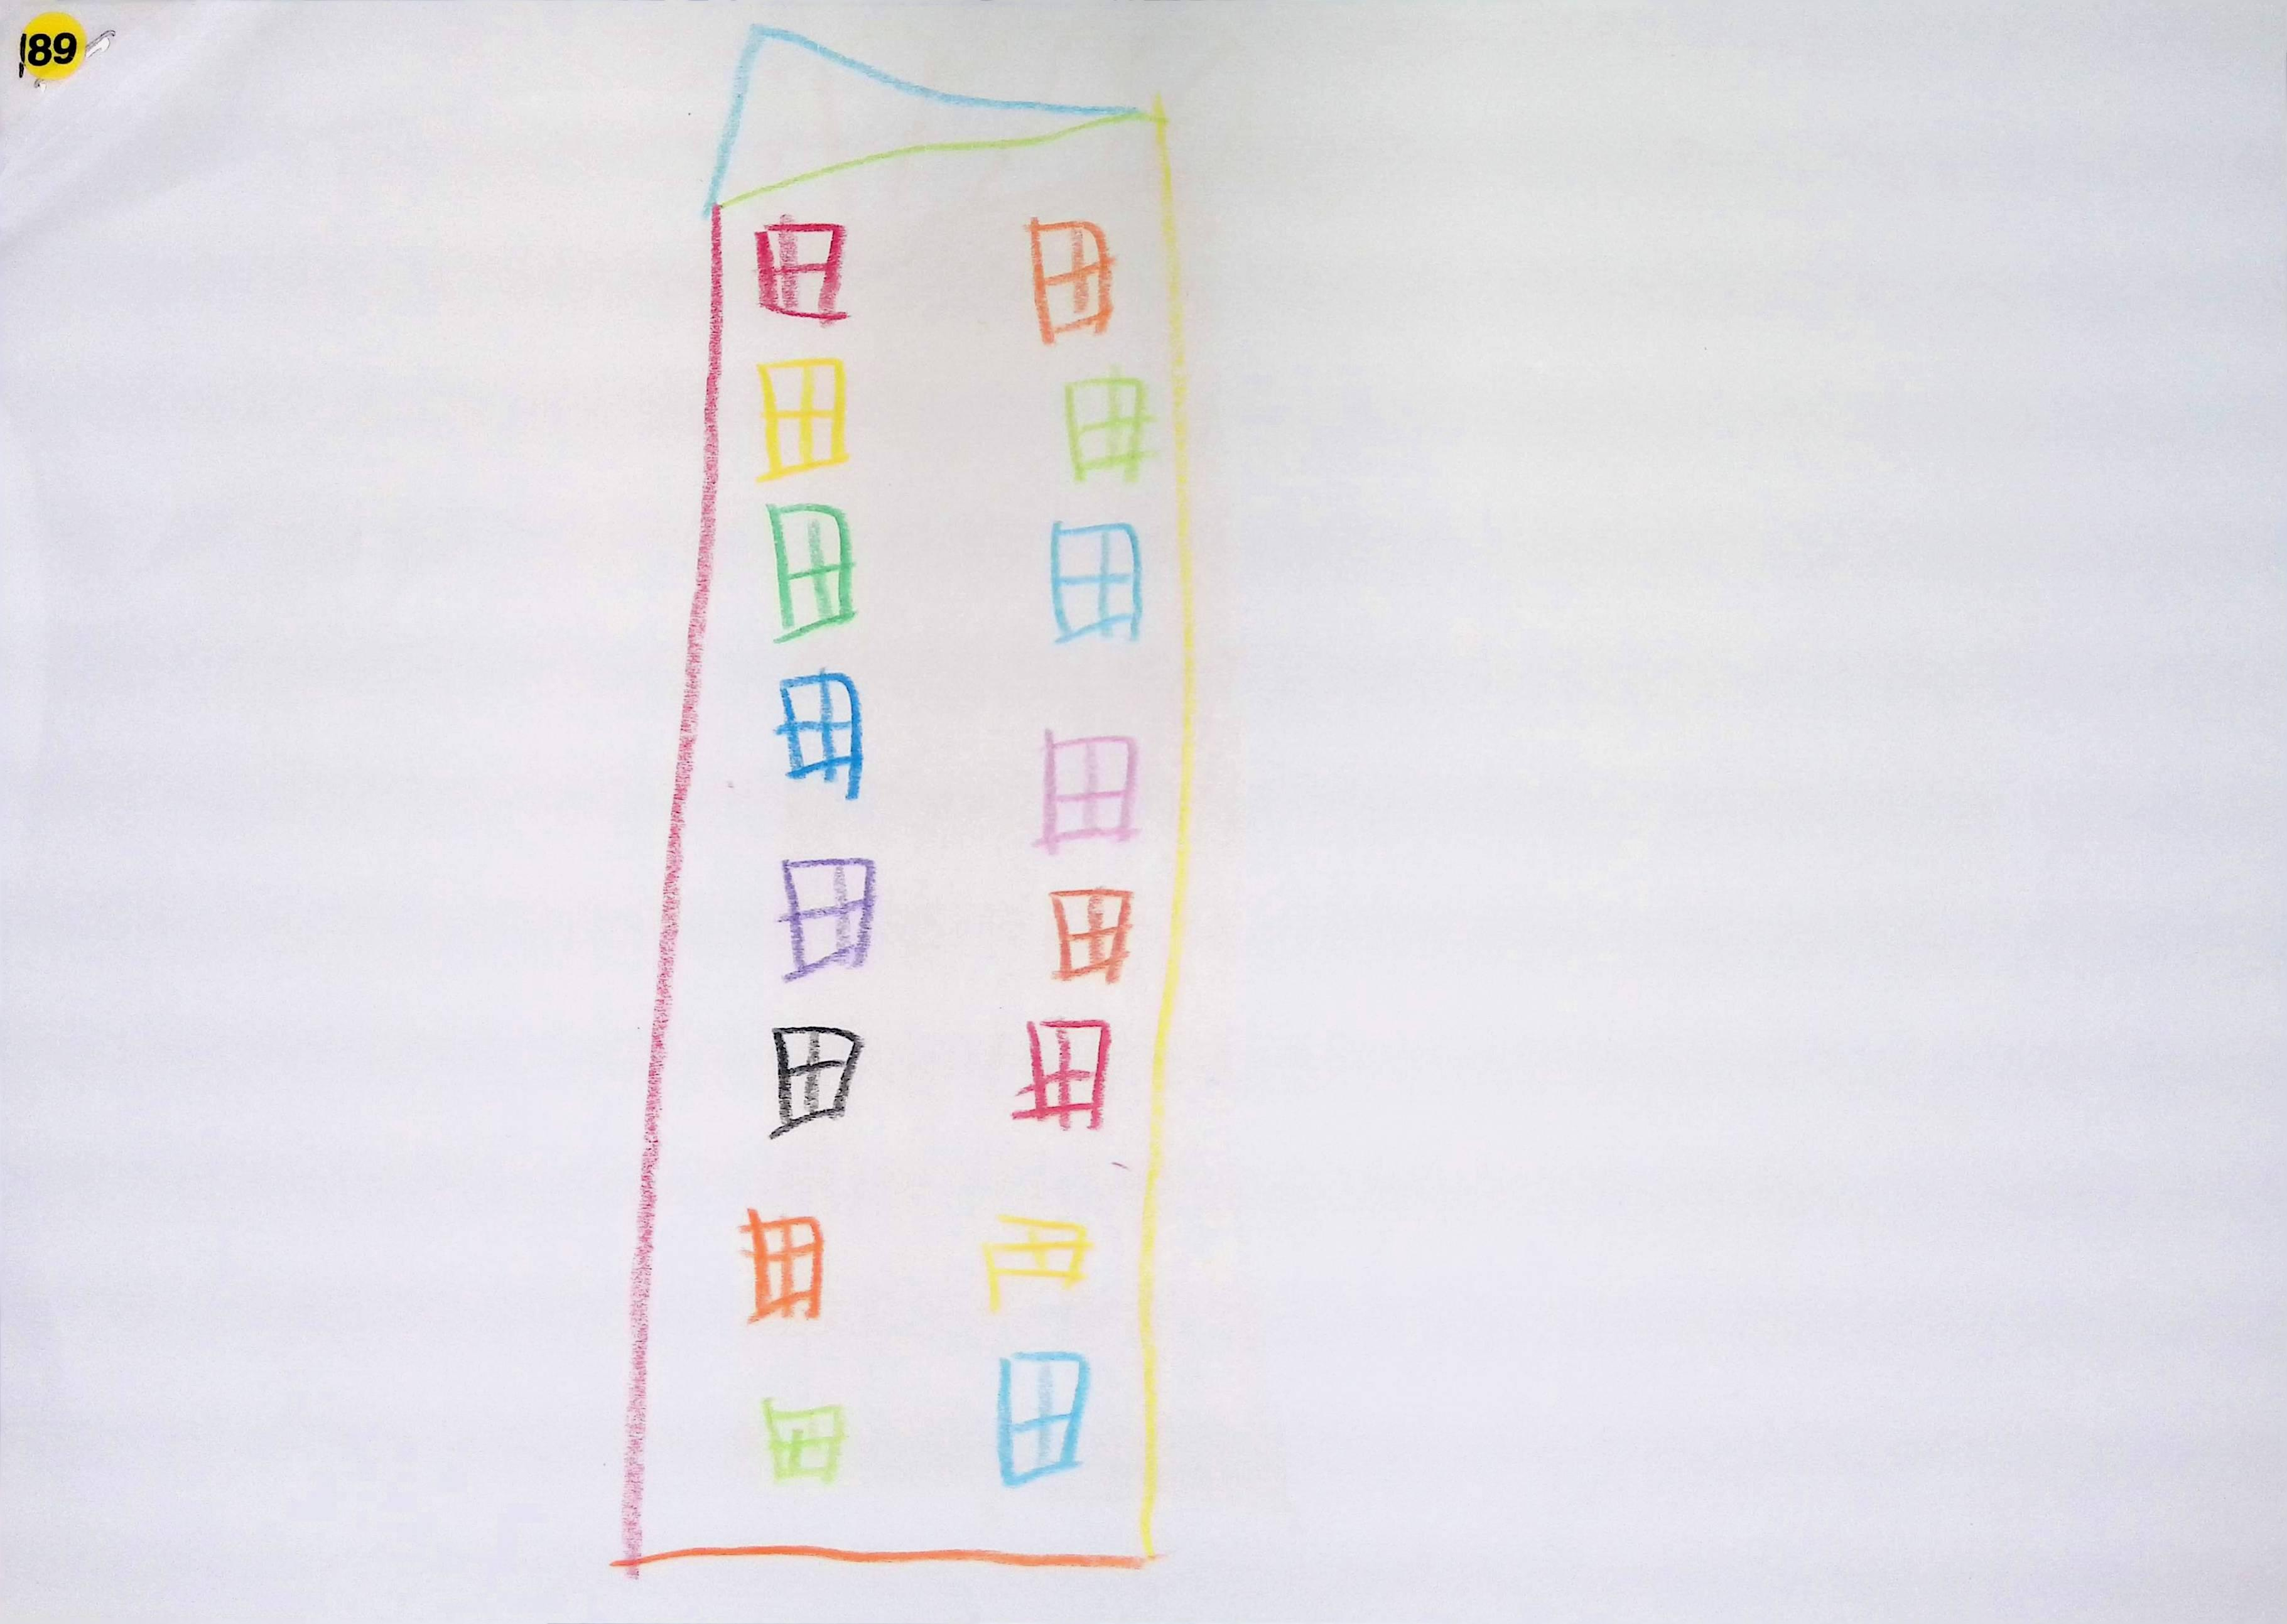house: (620, 23, 1196, 1570)
roof: (704, 21, 1142, 209)
wall: (618, 105, 1198, 1570)
window: (1036, 728, 1138, 854), (998, 1353, 1089, 1487), (768, 503, 854, 640), (778, 858, 873, 981), (776, 670, 862, 798), (757, 355, 845, 480), (1012, 1019, 1110, 1128), (1052, 520, 1142, 640), (982, 1216, 1091, 1313), (1029, 216, 1114, 341), (771, 1026, 861, 1139), (738, 1209, 824, 1323), (755, 216, 847, 320), (1066, 371, 1152, 478), (1050, 888, 1133, 982), (762, 1399, 845, 1485)
